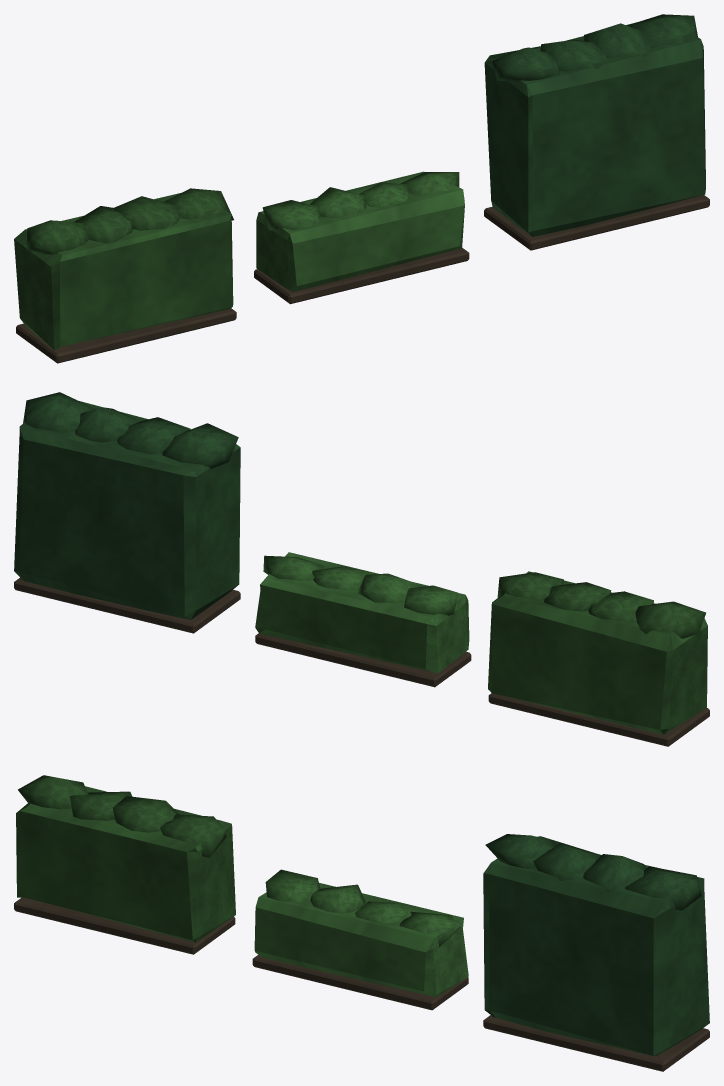
Rendered from hedge.glb.
3 views of the same model, one above another, from view 1: azimuth 30°, elevation 25°; view 2: azimuth 150°, elevation 25°; view 3: azimuth 330°, elevation 25° (orthographic).
Parts seen in each view (by area): view 1: hedge_v3, hedge_v1, hedge_v2; view 2: hedge_v3, hedge_v1, hedge_v2; view 3: hedge_v3, hedge_v1, hedge_v2.
Boxes of the visible parts, x1=… form: hedge_v3: x1=484, y1=14, x2=709, y2=250; hedge_v1: x1=14, y1=188, x2=236, y2=363; hedge_v2: x1=254, y1=171, x2=469, y2=304; hedge_v3: x1=14, y1=392, x2=240, y2=633; hedge_v1: x1=488, y1=571, x2=709, y2=746; hedge_v2: x1=255, y1=552, x2=471, y2=687; hedge_v3: x1=483, y1=834, x2=709, y2=1071; hedge_v1: x1=14, y1=775, x2=235, y2=954; hedge_v2: x1=252, y1=869, x2=468, y2=1010.
Bounding box in the file's own units: 7.39 × 1.93 × 0.9836.
Materials: 2 (2 with a texture image).
